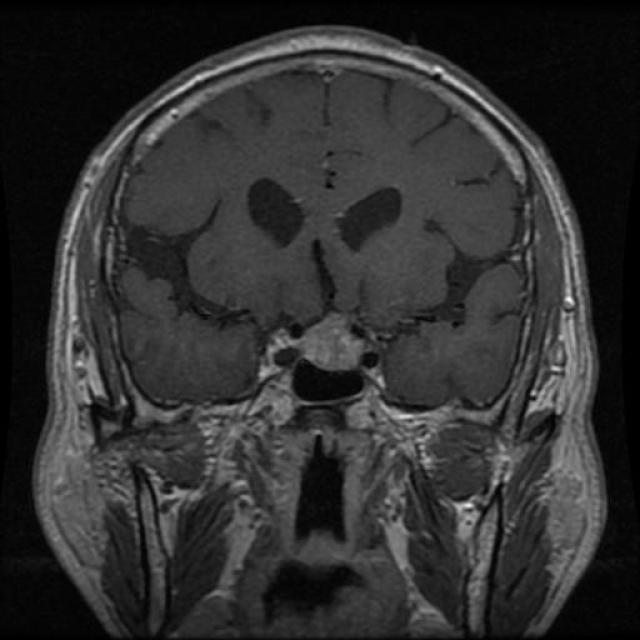pituitary: (285, 299, 384, 388)
